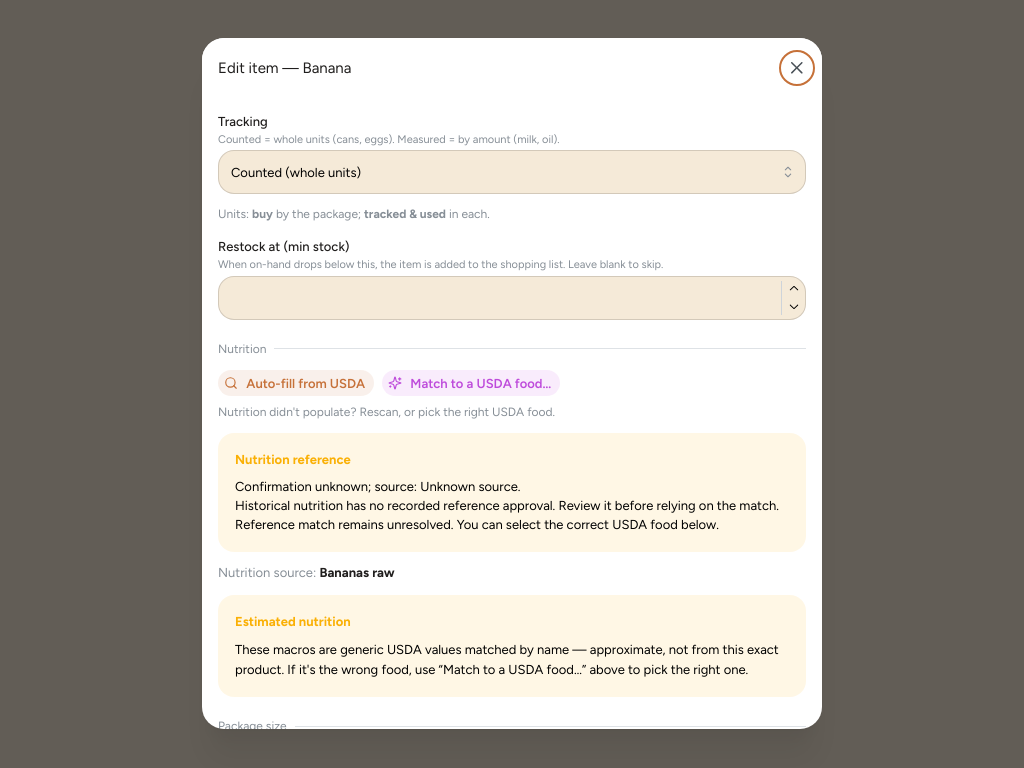
Test case: nutrition reference review › surfaces rejected rescan outcome instead of a silent no-change
(page scrolled)
Click the button "Auto-fill from USDA": (296, 384) [218,371,374,397]
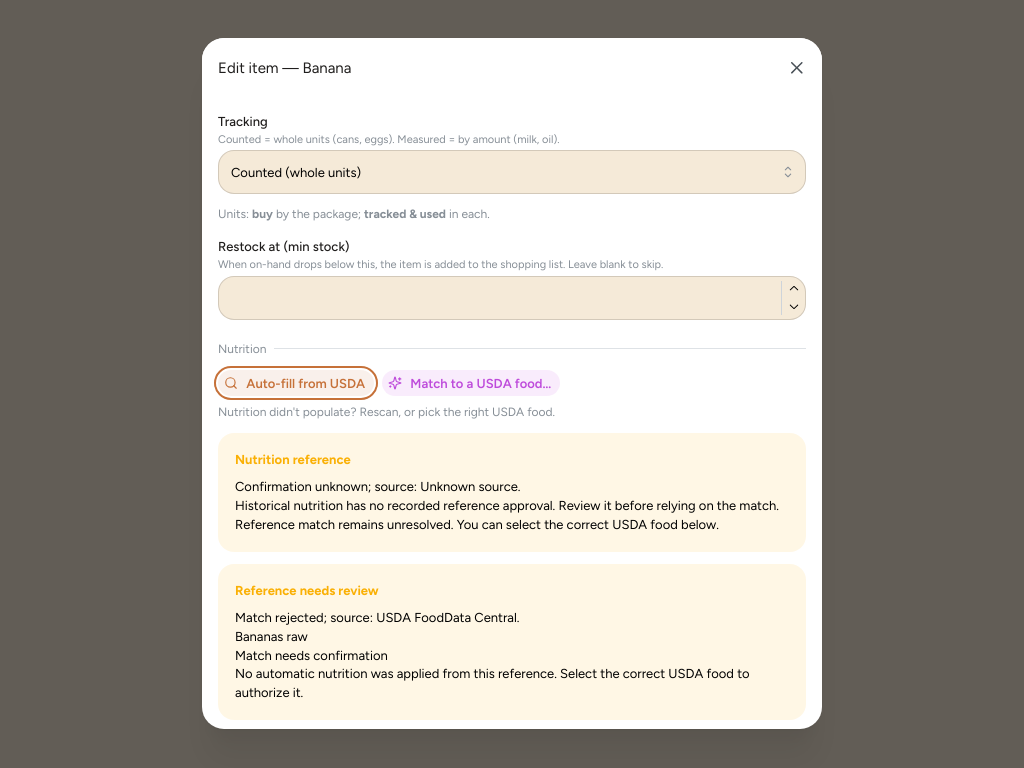
Check: the text "No automatic nutrition was applied" is shown, box [235,667,750,701]
